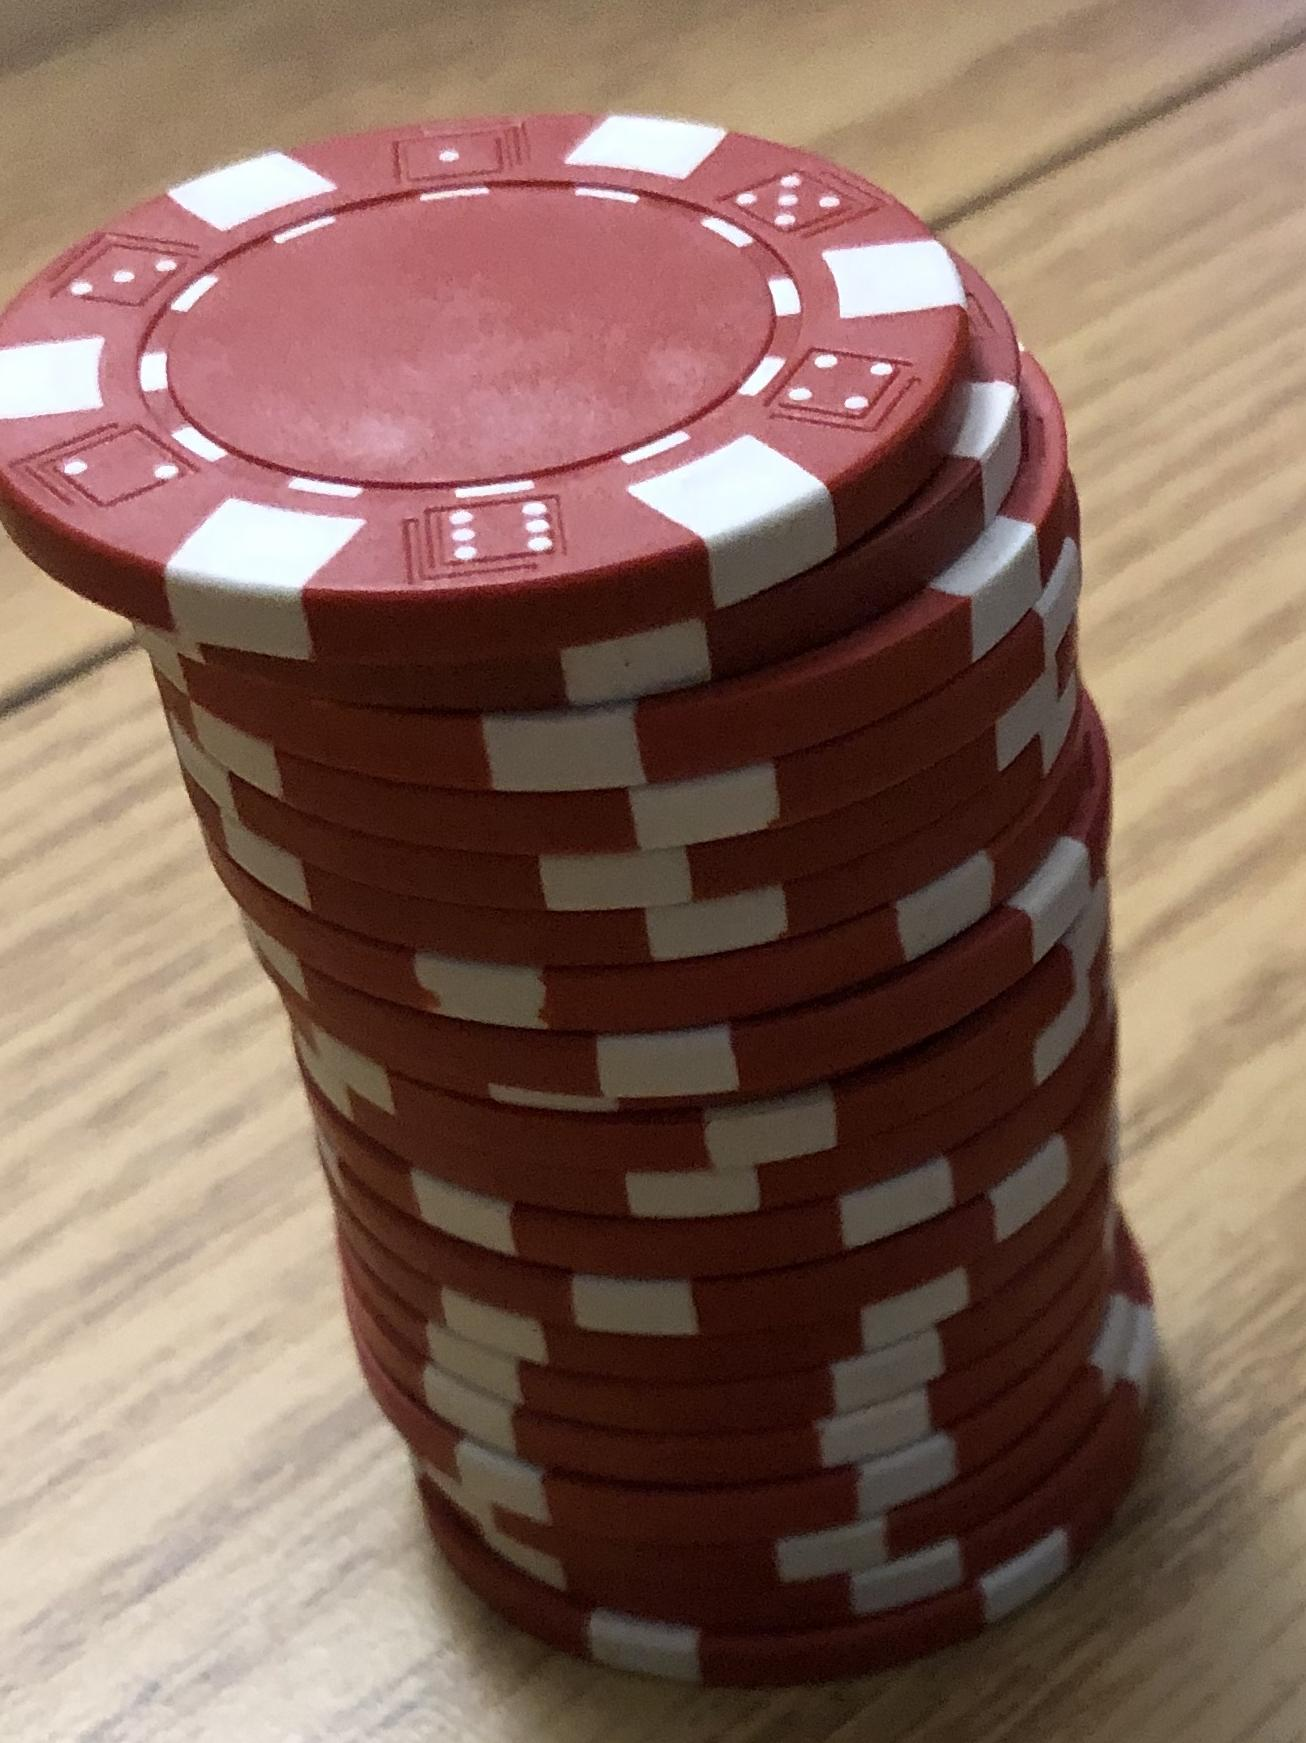Chip: (1, 1, 1306, 1743)
